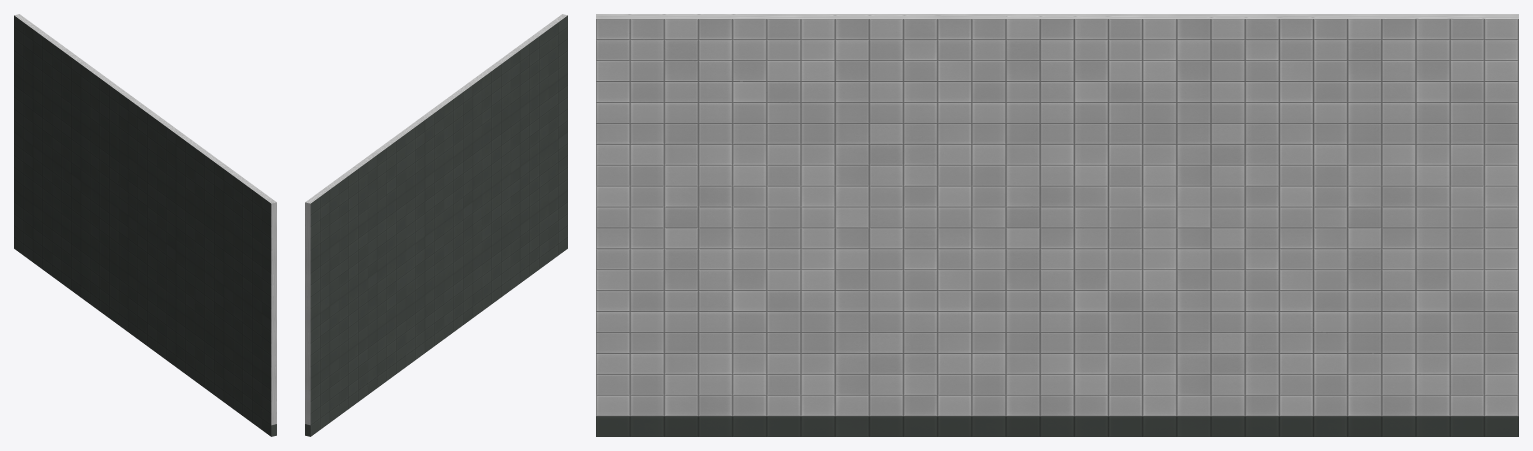
Rendered from wall big.fbx.
The picture shows the model from 3 angles, left to right: view 1: azimuth 30°, elevation 25°; view 2: azimuth 150°, elevation 25°; view 3: azimuth 270°, elevation 25°; orthographic projection. The views are drawn at different scales.
Parts seen in each view (by area): view 1: wall main; view 2: wall main; view 3: wall main.
Boxes of the visible parts, x1,y1,x2,y2 form: wall main: [14, 14, 276, 436]; wall main: [305, 14, 567, 436]; wall main: [596, 14, 1518, 436].
Size of the model in its own units: 10 by 400 by 800.
